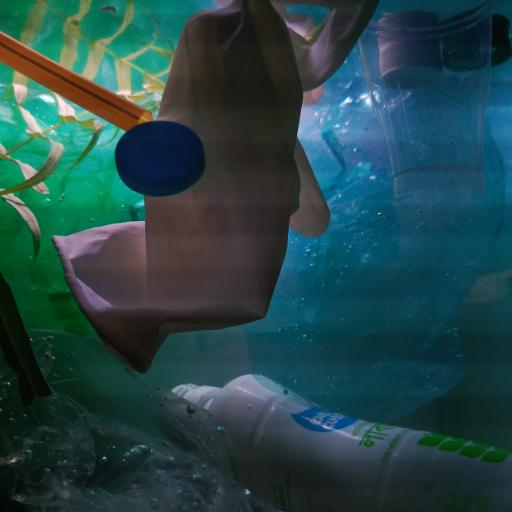bottle_cap: (115, 121, 206, 198), (374, 34, 444, 92), (442, 33, 490, 73)
glove: (51, 0, 379, 378)
plastic_bag: (253, 69, 512, 426), (0, 0, 145, 332), (4, 325, 252, 512)
plastic_cup: (352, 0, 502, 200)
plastic_straw: (0, 30, 154, 132)
